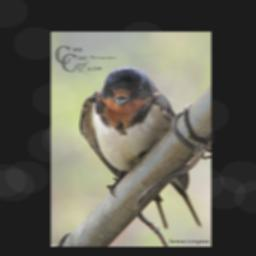Swallow: (79, 66, 202, 228)
